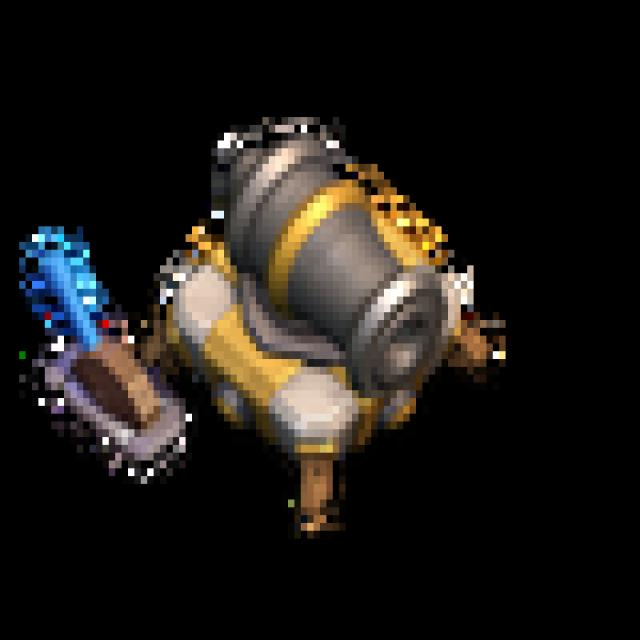cannon: (24, 49, 518, 567)
